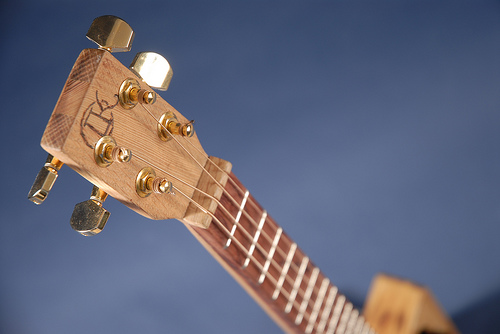guitar: (32, 40, 409, 334)
